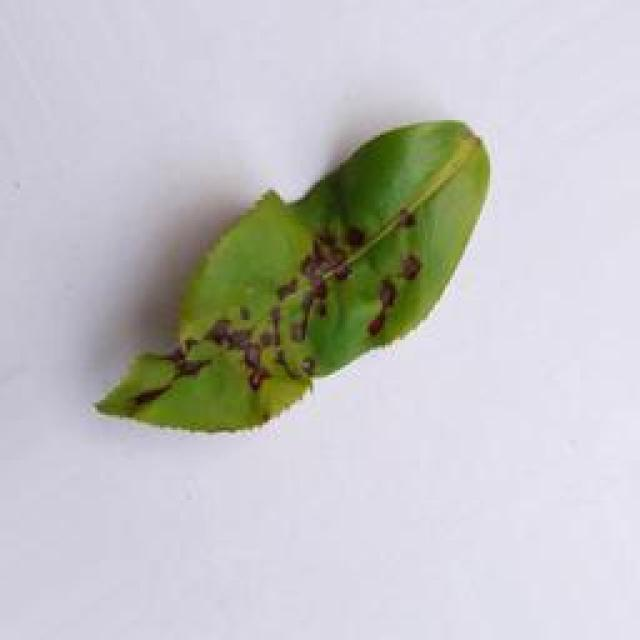Helopeltis: (79, 116, 497, 455)
